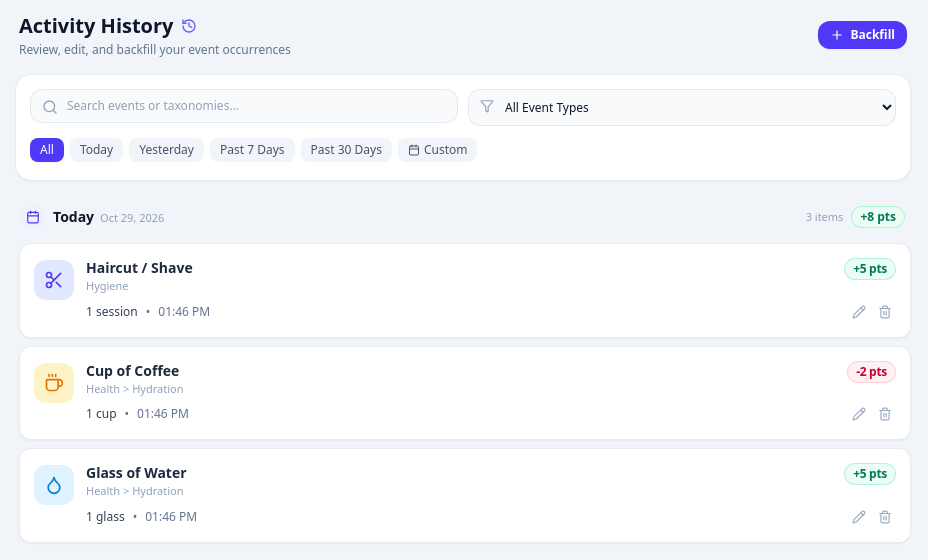
it: HistoryView › filters occurrences by search text
The image size is (928, 560).
Step 1. Type "Haircut" into the field with test id "history-search-input" → coordinates (244, 106), box [30,89,458,123]
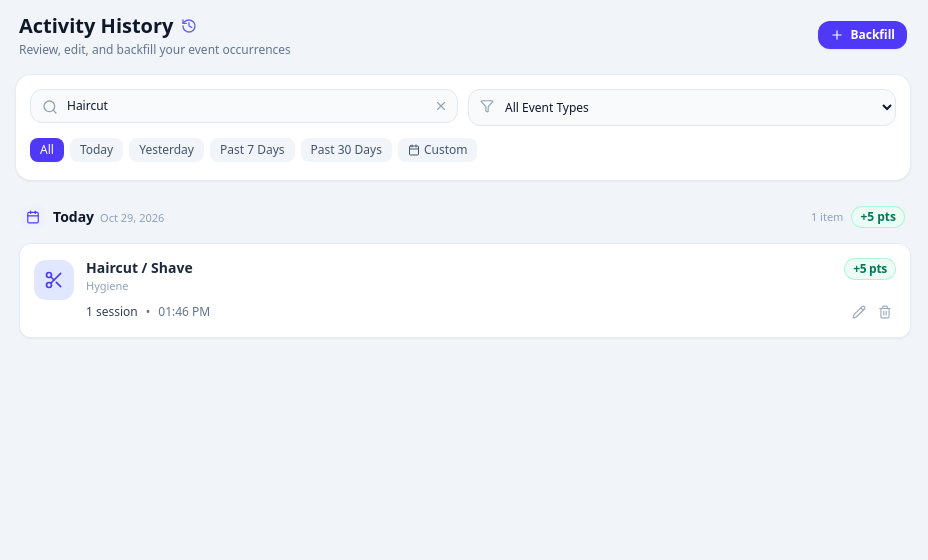
Expected: the number of "HistoryTimelineItem" components is 1, [19,243,911,338]
Result: the text with test id "timeline-container" no longer shows "Glass of Water"
